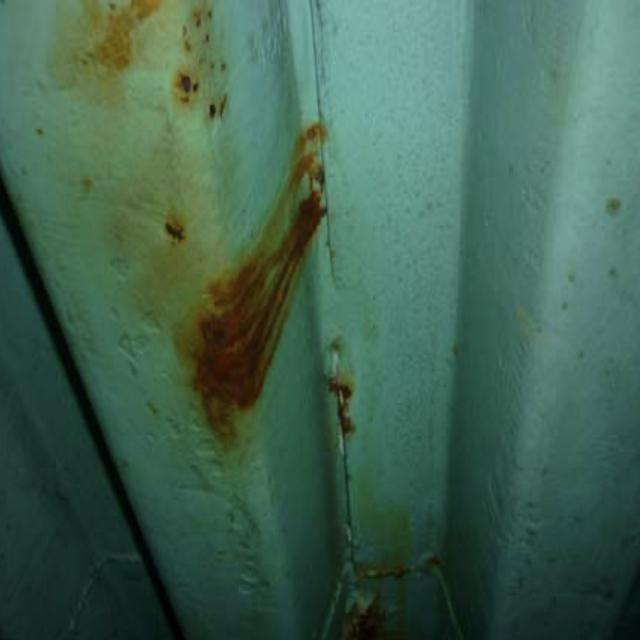corrosion: (95, 30, 348, 456)
